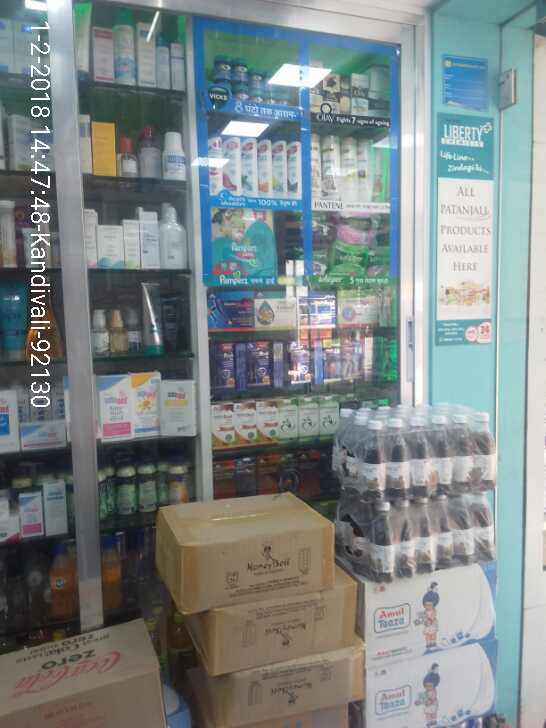vicks: (213, 51, 291, 105)
